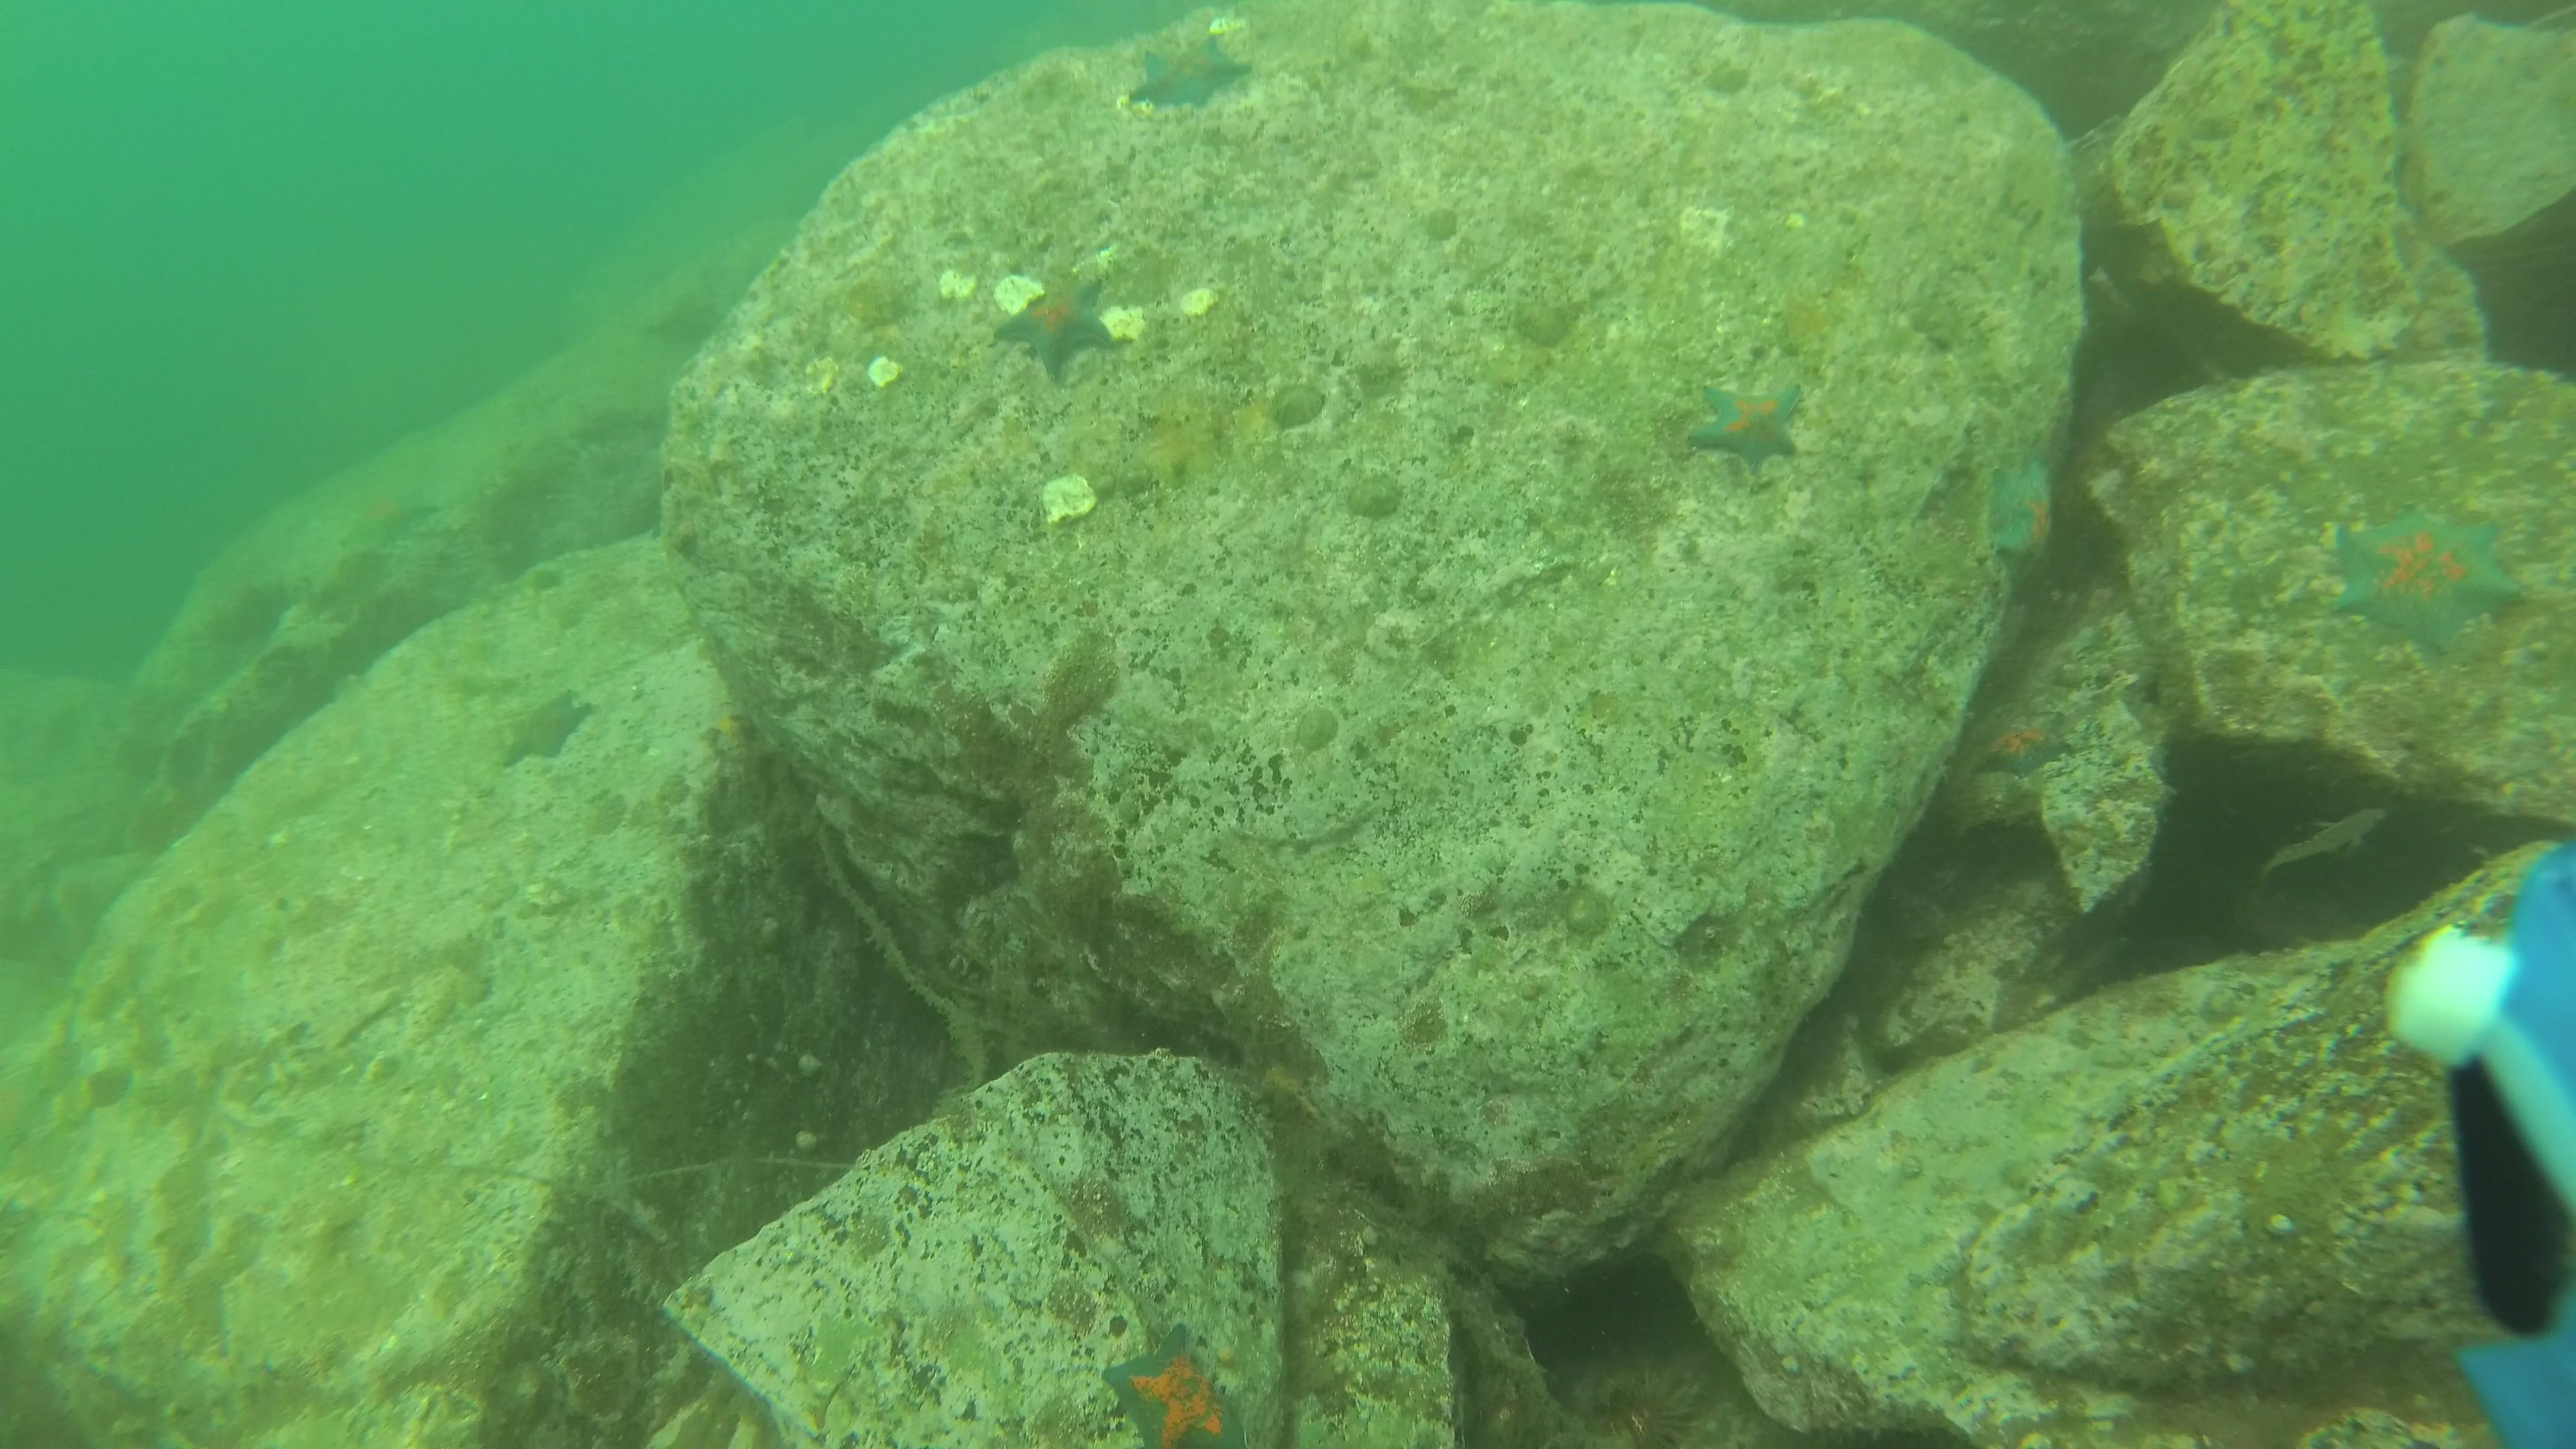starfish: (2323, 494, 2532, 656), (1093, 1320, 1254, 1449), (1688, 370, 1808, 479), (996, 276, 1120, 380), (1980, 449, 2059, 594), (1129, 32, 1254, 113), (501, 685, 596, 771), (1974, 706, 2074, 780)
